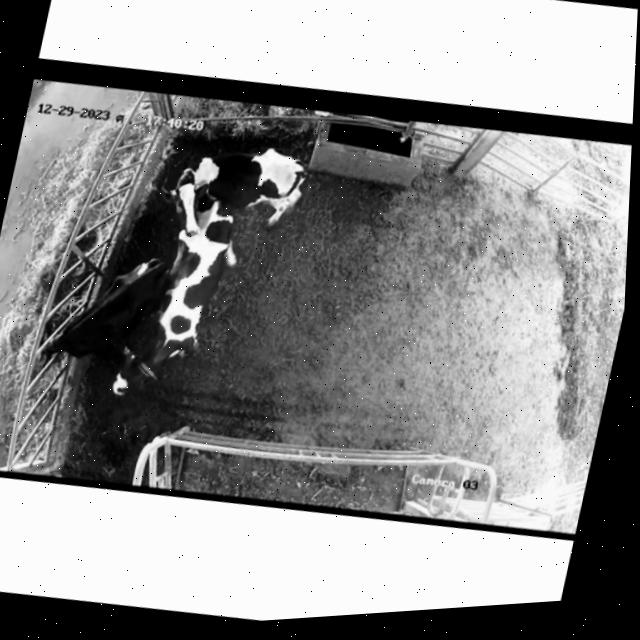eat: (3, 289, 103, 379)
propping: (146, 160, 228, 260)
stand: (105, 188, 256, 422)
